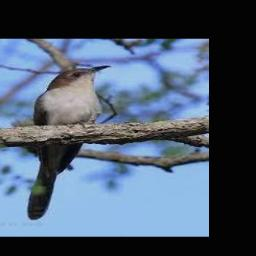Cuckoo: (26, 65, 112, 220)
